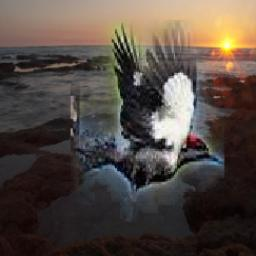Woodpecker: (71, 21, 224, 223)
